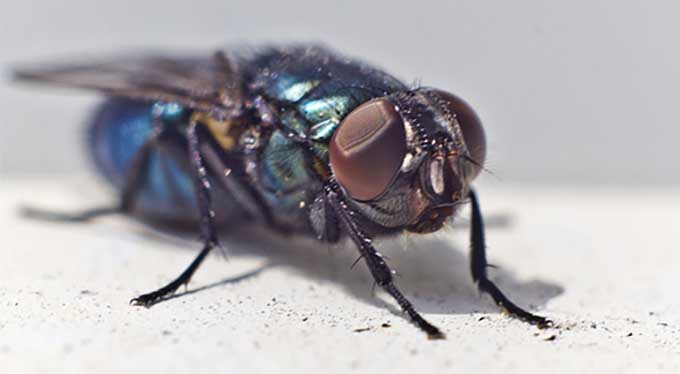fly: (2, 19, 568, 363)
